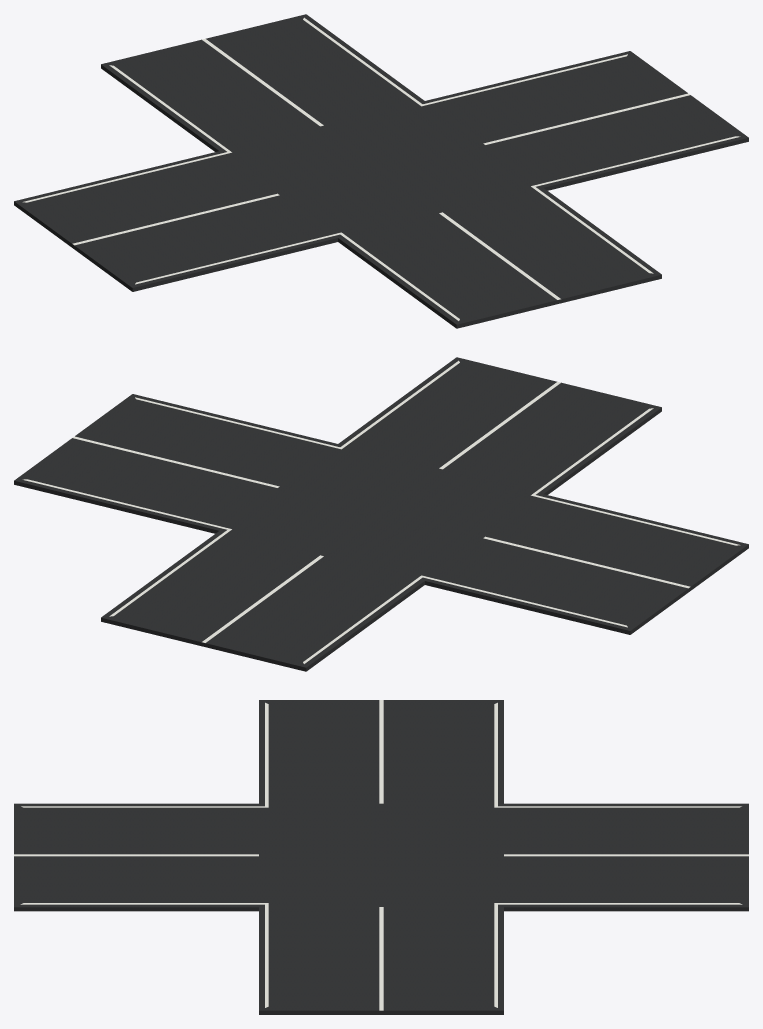
The model's file is OAR_Road_Junction_Cross.fbx.
3 views of the same model, one above another, from view 1: azimuth 30°, elevation 25°; view 2: azimuth 150°, elevation 25°; view 3: azimuth 270°, elevation 25° (orthographic). The views are drawn at different scales.
Parts seen in each view (by area): view 1: Body, Markings.009_Mesh; view 2: Body, Markings.009_Mesh; view 3: Body, Markings.009_Mesh.
Boxes of the visible parts, bbox=[...] form: Body: bbox=[14, 14, 748, 328]; Markings.009_Mesh: bbox=[22, 17, 740, 320]; Body: bbox=[14, 357, 748, 671]; Markings.009_Mesh: bbox=[22, 360, 740, 663]; Body: bbox=[14, 700, 748, 1014]; Markings.009_Mesh: bbox=[14, 700, 748, 1010].
Bounding box in the file's own units: 24 × 0.153 × 24.
